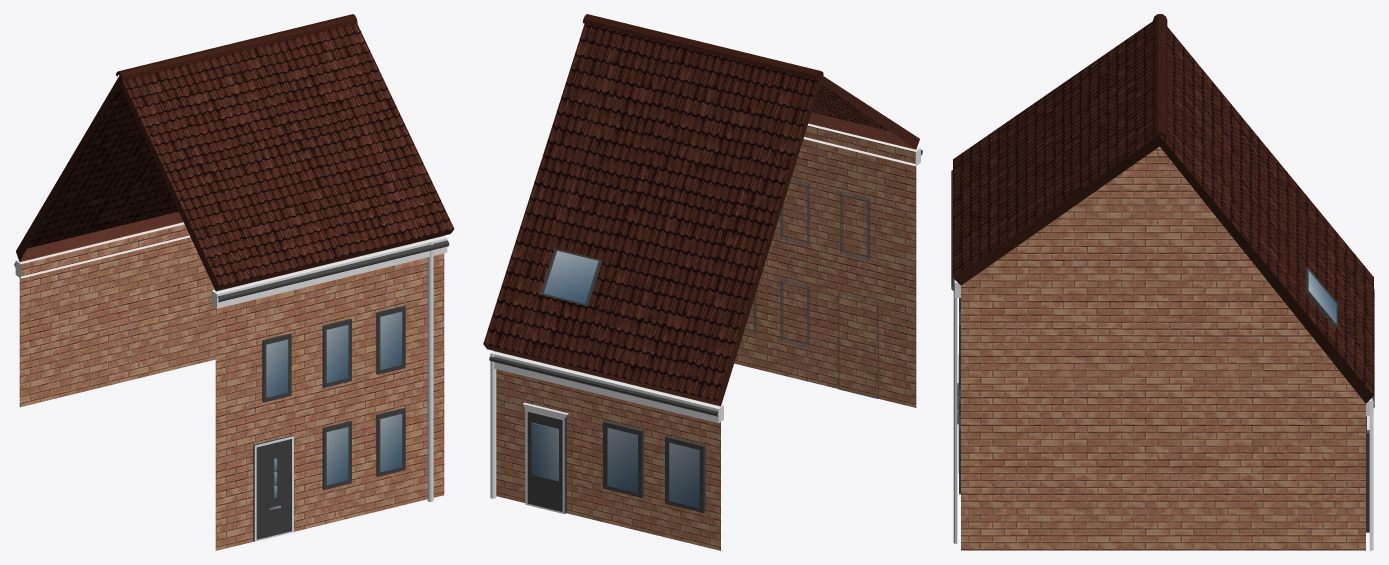
The model's file is Buorkerij_35.fbx.
3 views of the same model, side by side, from view 1: azimuth 30°, elevation 25°; view 2: azimuth 150°, elevation 25°; view 3: azimuth 270°, elevation 25° (orthographic). The views are drawn at different scales.
Parts seen in each view (by area): view 1: Buorkerij_35; view 2: Buorkerij_35; view 3: Buorkerij_35.
Boxes of the visible parts, x1,y1,x2,y2 form: Buorkerij_35: [14, 14, 454, 550]; Buorkerij_35: [483, 14, 922, 550]; Buorkerij_35: [951, 14, 1374, 550].
Bounding box in the file's own units: 626 × 1031 × 938.
